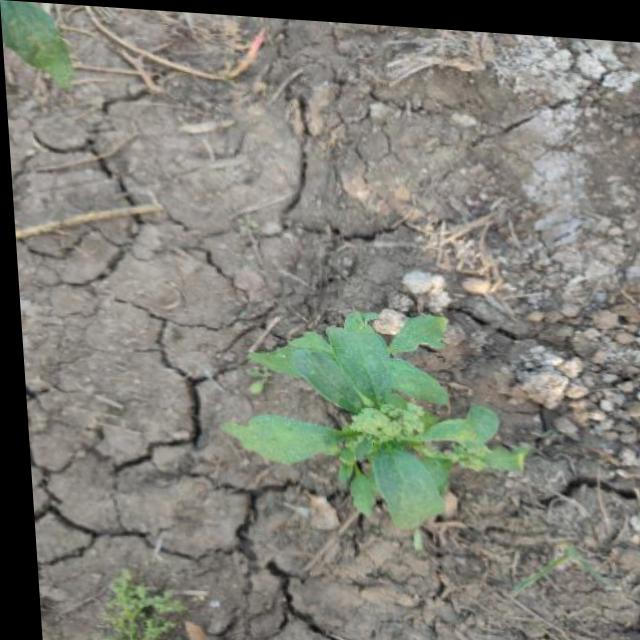weed: (243, 286, 517, 560)
